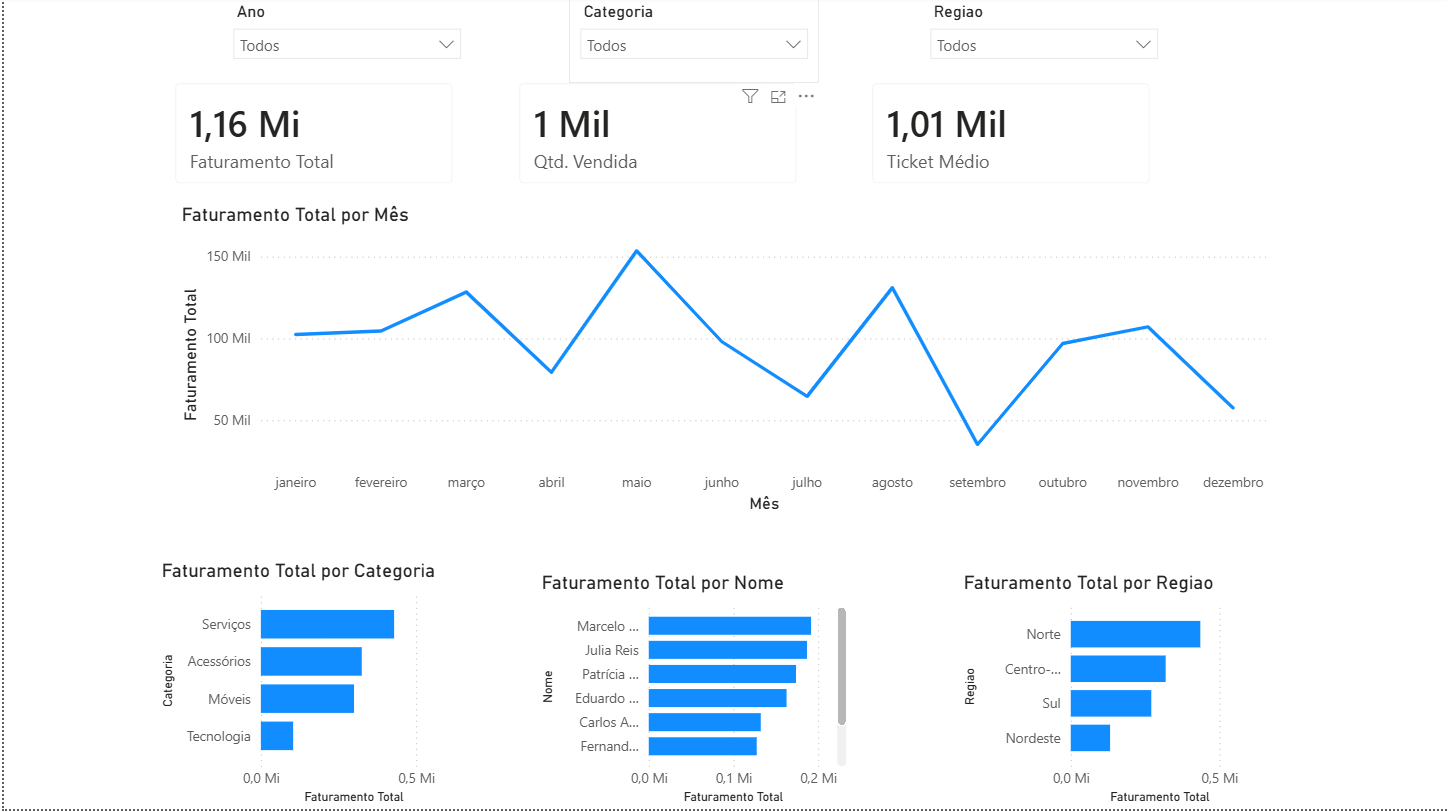

Layout of this report page (visuals, bound fields, positions):
{"tool":"powerbi","page":{"name":"Página 1","canvas":[1280,720],"ordinal":0},"visuals":[{"type":"cardVisual","fields":{"Data":["Medidas.Faturamento Total"]},"box":[135.2,59.3,280.1,123.5],"z":0},{"type":"cardVisual","fields":{"Data":["Medidas.Qtd. Vendida"]},"box":[439.6,59.3,280.1,123.5],"z":1000},{"type":"cardVisual","fields":{"Data":["Medidas.Ticket Médio"]},"box":[752.8,59.3,280.1,123.5],"z":2000},{"type":"lineChart","fields":{"Y":["Medidas.Faturamento Total"],"Category":["Vendas.Data.Variation.Hierarquia de datas.Mês"]},"box":[152.7,182.9,973.6,279.1],"z":3000},{"type":"clusteredBarChart","fields":{"Y":["Medidas.Faturamento Total"],"Category":["Produtos.Categoria"]},"box":[135.2,498,280.1,221.8],"z":4000},{"type":"clusteredBarChart","fields":{"Y":["Medidas.Faturamento Total"],"Category":["Vendedores.Nome"]},"box":[471.7,508.7,280.1,211.1],"z":5000},{"type":"clusteredBarChart","fields":{"Y":["Medidas.Faturamento Total"],"Category":["Vendedores.Regiao"]},"box":[846.2,508.7,280.1,211.1],"z":6000},{"type":"slicer","fields":{"Values":["Vendas.Data.Variation.Hierarquia de datas.Ano"]},"box":[193.6,0,221.8,75.9],"z":7000},{"type":"slicer","fields":{"Values":["Produtos.Categoria"]},"box":[500.9,0,221.8,75.9],"z":8000},{"type":"slicer","fields":{"Values":["Vendedores.Regiao"]},"box":[811.2,0,221.8,75.9],"z":9000}]}

Visuals, with their boxes in screenshot pixels (x1, y1, x2, y2), scaled from the page's 1280x720 canvas onto the 1447x811 screenshot:
cardVisual - Medidas.Faturamento Total: 153,67,469,206
cardVisual - Medidas.Qtd. Vendida: 497,67,814,206
cardVisual - Medidas.Ticket Médio: 851,67,1168,206
lineChart - Medidas.Faturamento Total x Vendas.Data.Variation.Hierarquia de datas.Mês: 173,206,1273,520
clusteredBarChart - Medidas.Faturamento Total x Produtos.Categoria: 153,561,469,810
clusteredBarChart - Medidas.Faturamento Total x Vendedores.Nome: 533,573,850,810
clusteredBarChart - Medidas.Faturamento Total x Vendedores.Regiao: 957,573,1273,810
slicer - Vendas.Data.Variation.Hierarquia de datas.Ano: 219,0,470,85
slicer - Produtos.Categoria: 566,0,817,85
slicer - Vendedores.Regiao: 917,0,1168,85
